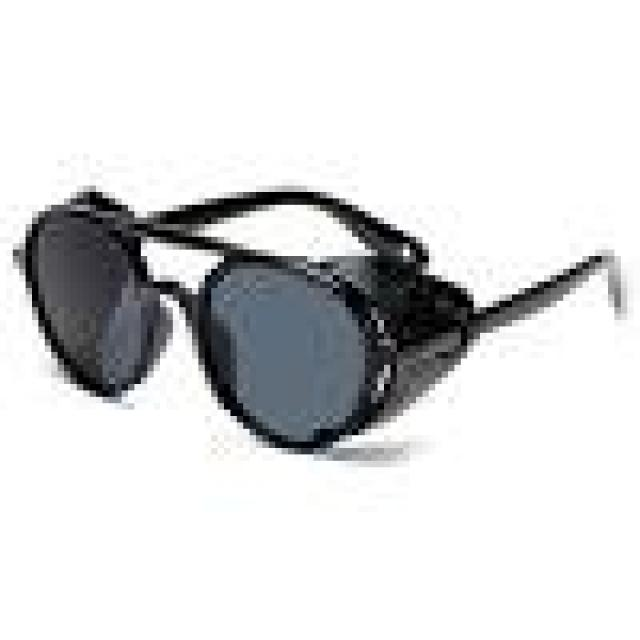suspicious-objects: (12, 170, 442, 458)
